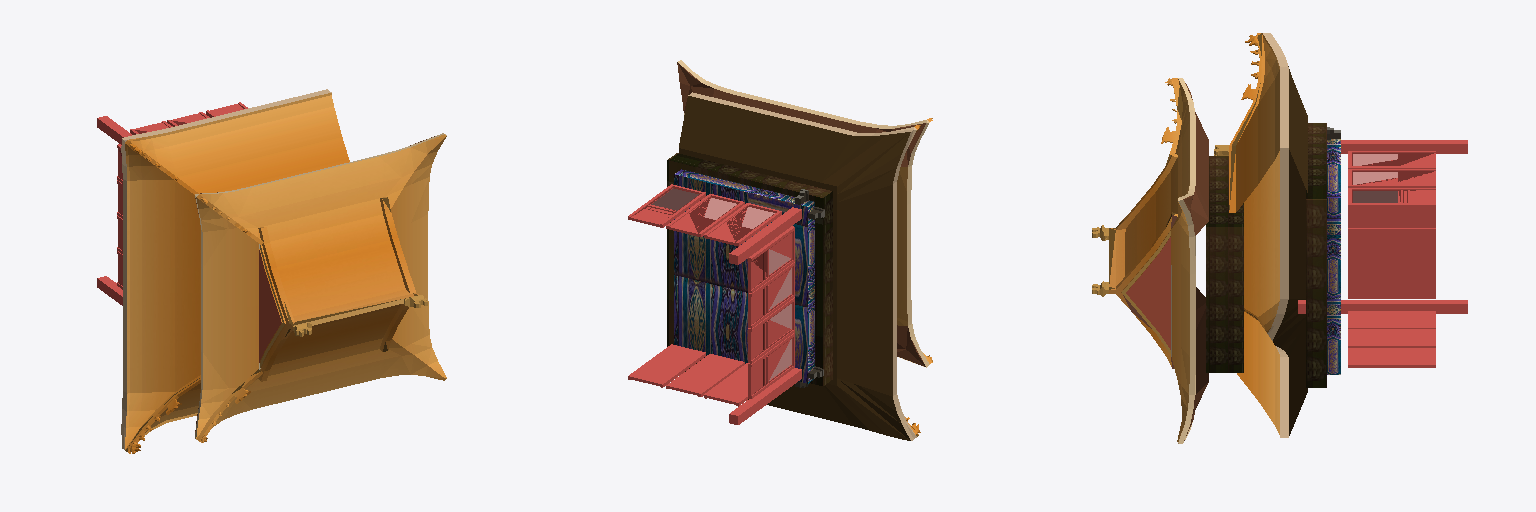
3 renders of one model, left to right at view 1: azimuth 30°, elevation 25°; view 2: azimuth 150°, elevation 25°; view 3: azimuth 270°, elevation 25°, orthographic.
Bounding box in the file's own units: 174 × 186 × 203.
19 materials, 3 textured.